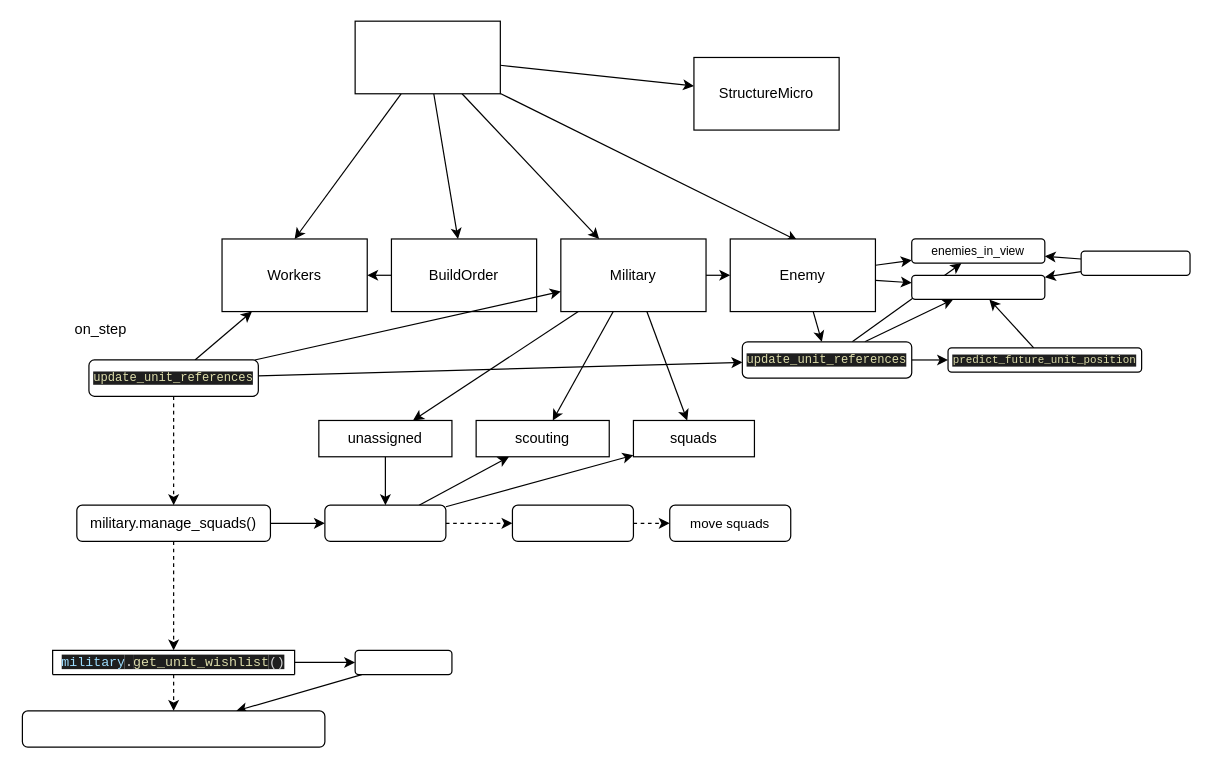
Image size: 1211x768. Some labels were removed from this diagram. The shapes that lost their labels are listed below. From the top down, each one's box as (x1, y1, x2, y2) in pixels, then its label:
(354, 20, 500, 94): BotTato
(1080, 250, 1190, 275): record_death
(911, 274, 1045, 299): enemies_out_of_view
(324, 504, 446, 541): distribute unassigned
(511, 504, 633, 541): move scouts
(354, 649, 452, 675): needed_units
(21, 710, 325, 747): build_order . request_military ( needed_units )
